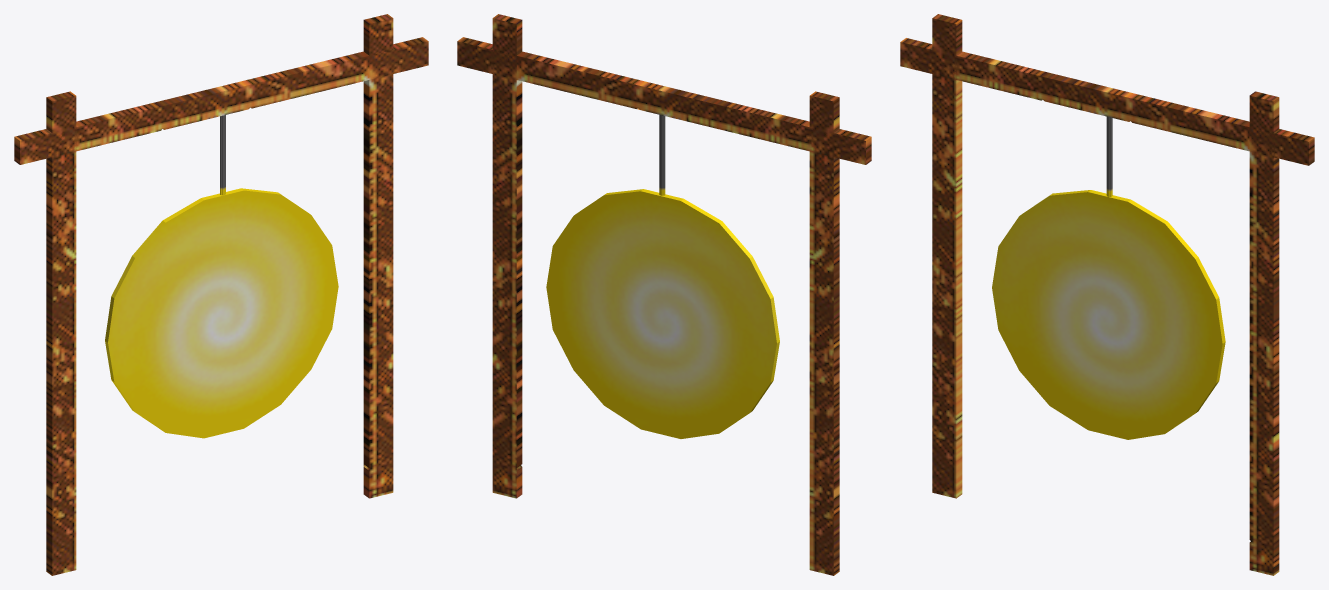
The model's file is Gong.glb.
The picture shows the model from 3 angles, left to right: view 1: azimuth 30°, elevation 25°; view 2: azimuth 150°, elevation 25°; view 3: azimuth 330°, elevation 25°; orthographic projection.
Visible parts, largest first — view 1: Gong; view 2: Gong; view 3: Gong.
Boxes of the visible parts, x1,y1,x2,y2 form: Gong: (14, 14, 428, 575); Gong: (457, 14, 871, 575); Gong: (900, 14, 1314, 575).
Size of the model in its own units: 296 by 328 by 7.24.
1 material, 1 textured.
